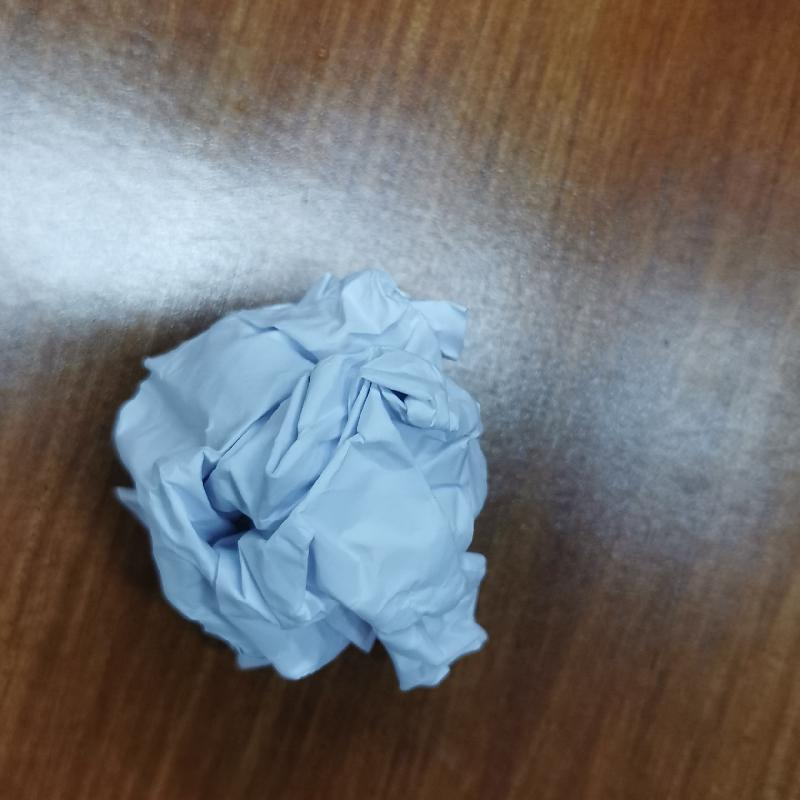spitball: (104, 260, 515, 709)
